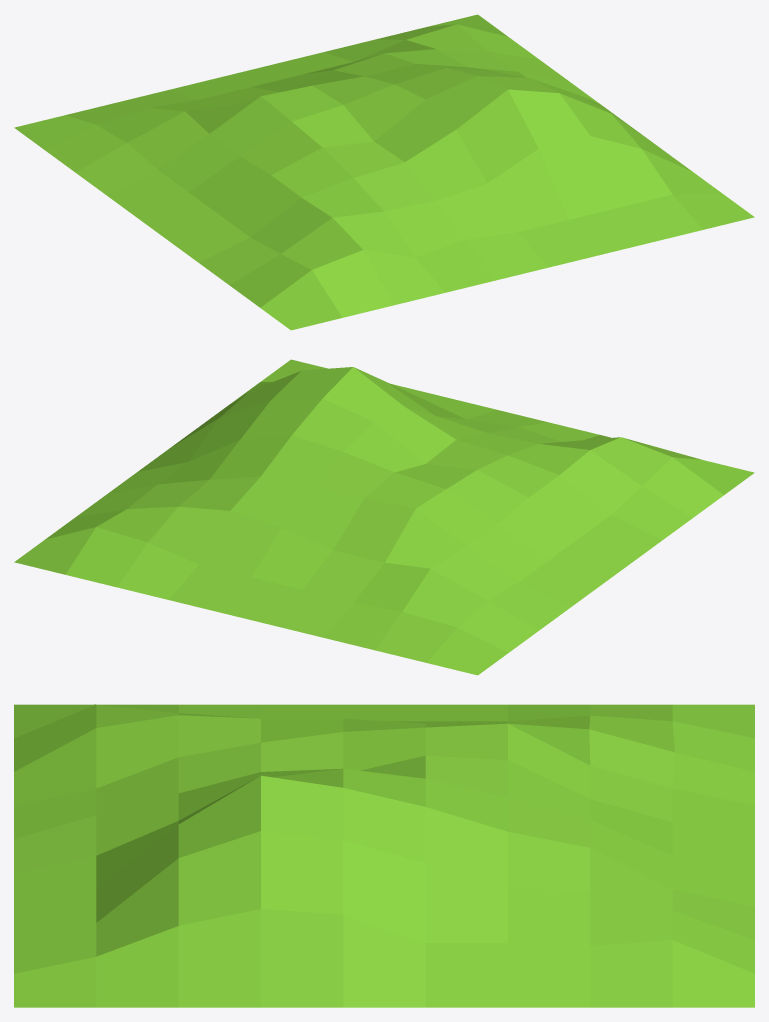
The model's file is hill_001.fbx.
3 renders of one model, top to bottom at view 1: azimuth 30°, elevation 25°; view 2: azimuth 150°, elevation 25°; view 3: azimuth 270°, elevation 25°, orthographic. The views are drawn at different scales.
Parts seen in each view (by area): view 1: Grid; view 2: Grid; view 3: Grid.
Boxes of the visible parts, x1,y1,x2,y2 form: Grid: (14,14,754,330); Grid: (14,359,754,675); Grid: (14,704,754,1007).
Bounding box in the file's own units: 580 × 117 × 600.
